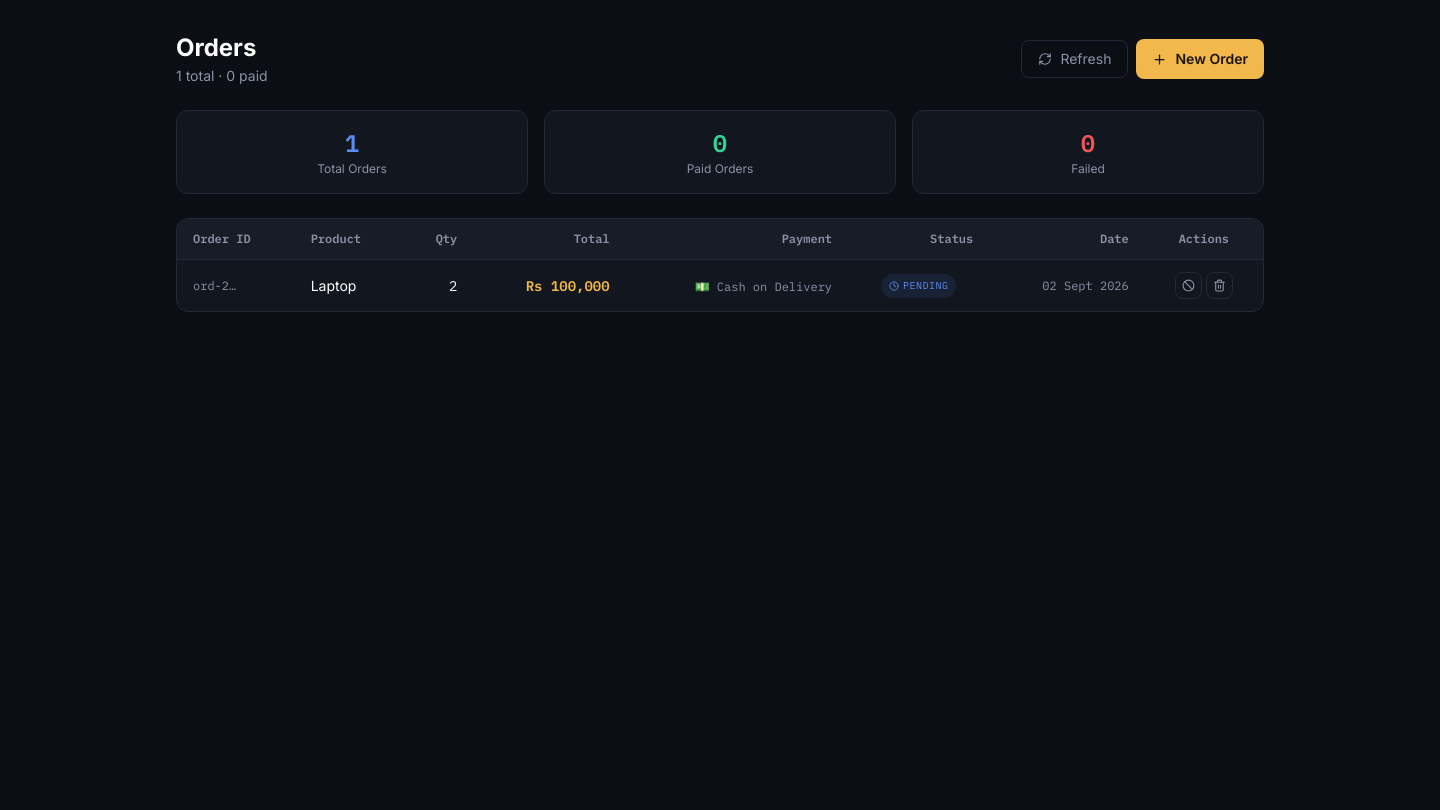
Test: OrdersPage — Cancel › opens cancel modal on ban icon click
Click the button titled "Cancel order". click: (1188, 286)
box: x1=1175 y1=272 x2=1202 y2=299
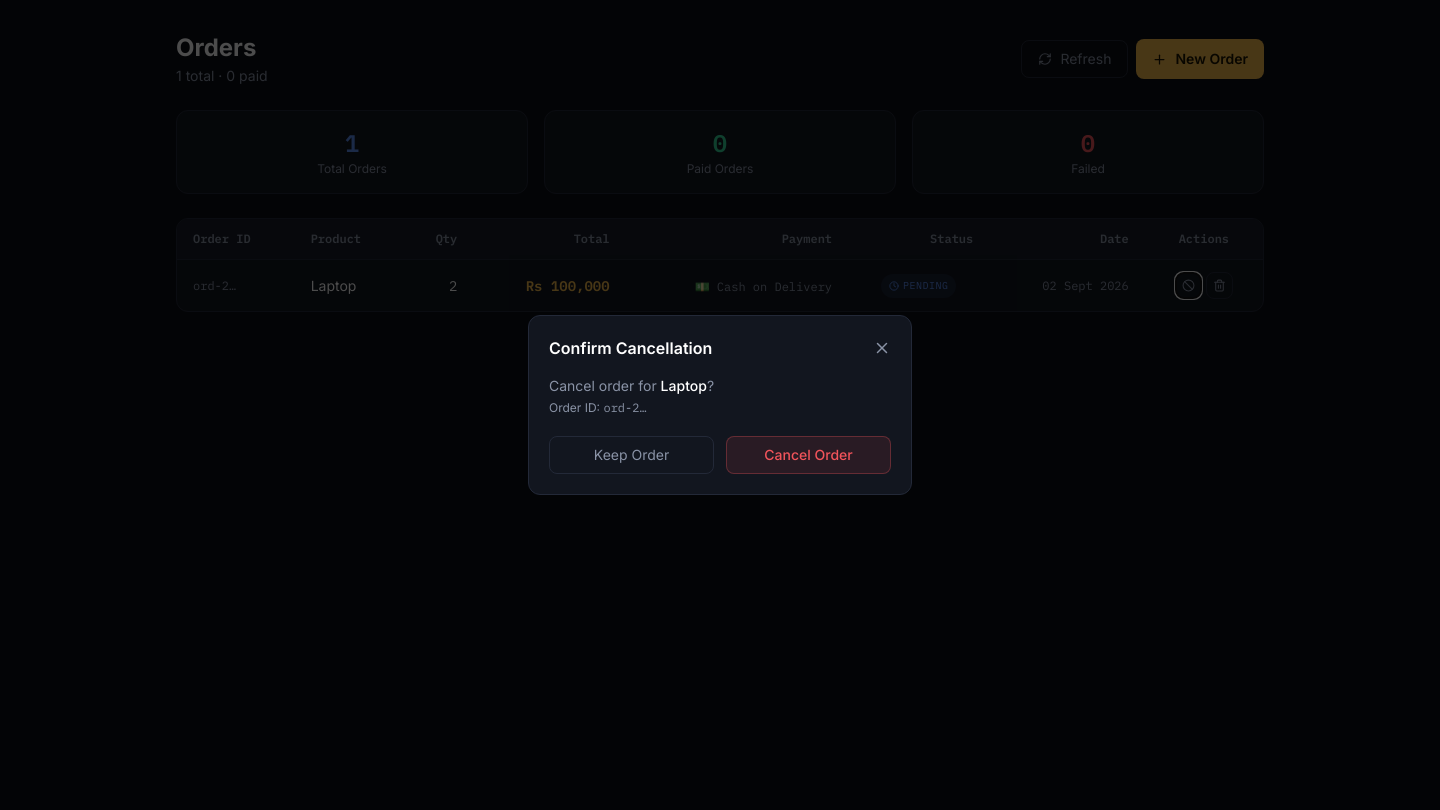
Expected: the button "Cancel Order" is shown, x1=726 y1=436 x2=891 y2=474
